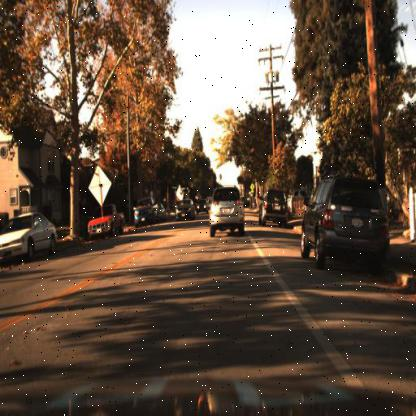car: (300, 171, 391, 269), (0, 213, 58, 266), (204, 185, 242, 243), (86, 203, 124, 240), (256, 187, 288, 227), (133, 195, 157, 228), (173, 199, 196, 220), (196, 197, 209, 217)
